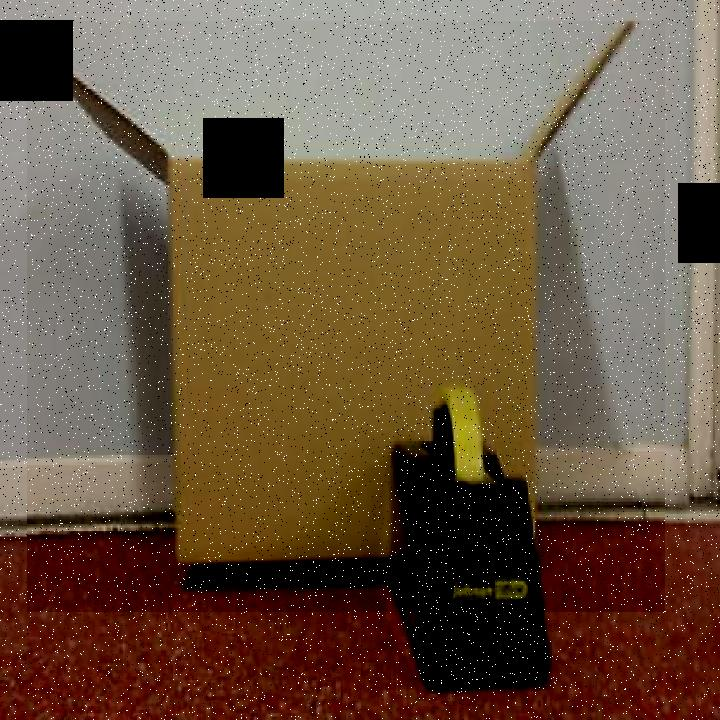box: (27, 22, 665, 614)
